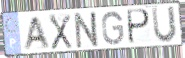A: (22, 15, 51, 52)
G: (101, 10, 125, 46)
N: (74, 10, 101, 50)
P: (127, 8, 152, 45)
U: (150, 5, 178, 45)
X: (48, 13, 74, 51)
